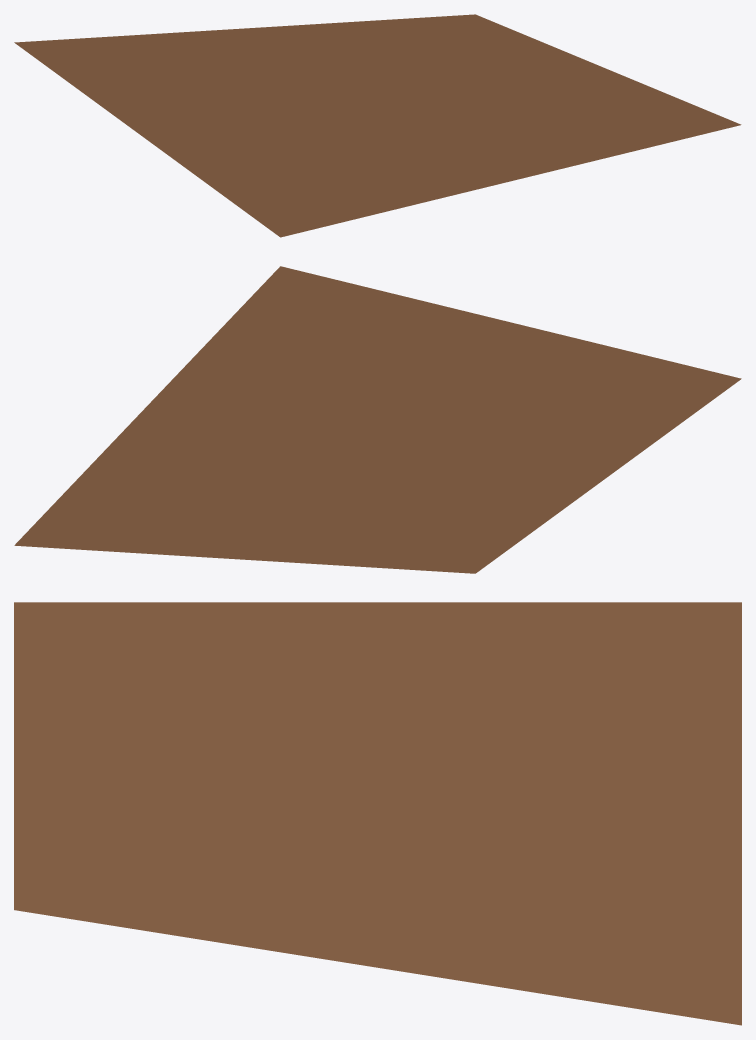
File: SPW_Terrain_Grass_Plan A_In_Corner.gltf
3 renders of one model, top to bottom at view 1: azimuth 30°, elevation 25°; view 2: azimuth 150°, elevation 25°; view 3: azimuth 270°, elevation 25°, orthographic. The views are drawn at different scales.
Visible parts, largest first — view 1: SPW_Terrain_Grass_Plan_A_In_Corner; view 2: SPW_Terrain_Grass_Plan_A_In_Corner; view 3: SPW_Terrain_Grass_Plan_A_In_Corner.
Part boxes in pixels (left/top/right/bottom): SPW_Terrain_Grass_Plan_A_In_Corner: left=14, top=14, right=741, bottom=237; SPW_Terrain_Grass_Plan_A_In_Corner: left=14, top=266, right=741, bottom=573; SPW_Terrain_Grass_Plan_A_In_Corner: left=14, top=602, right=741, bottom=1025.
Bounding box in the file's own units: 787 × 138 × 787.
1 material, 1 textured.
